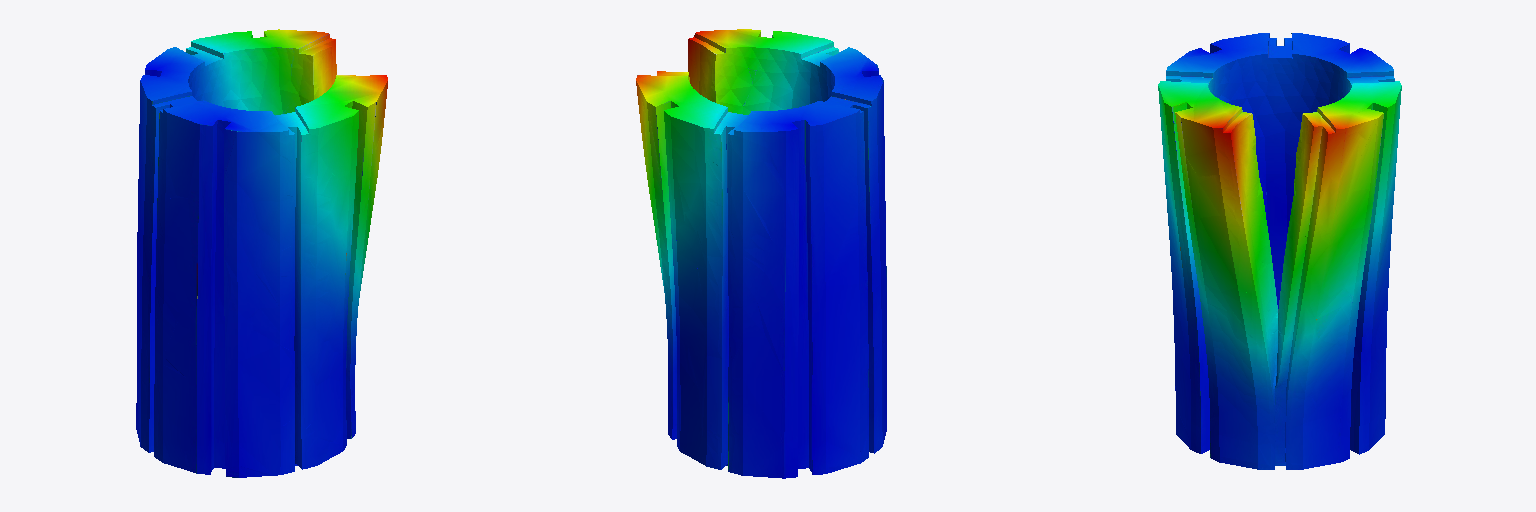
3 renders of one model, left to right at view 1: azimuth 30°, elevation 25°; view 2: azimuth 150°, elevation 25°; view 3: azimuth 270°, elevation 25°, orthographic.
Visible parts, largest first — view 1: MINIMAL_SIZE_GEOM; view 2: MINIMAL_SIZE_GEOM; view 3: MINIMAL_SIZE_GEOM.
Boxes of the visible parts, x1,y1,x2,y2 form: MINIMAL_SIZE_GEOM: [136, 29, 387, 477]; MINIMAL_SIZE_GEOM: [636, 29, 886, 478]; MINIMAL_SIZE_GEOM: [1158, 33, 1401, 469].
Size of the model in its own units: 517 by 847 by 524.
1 materials, 1 textured.